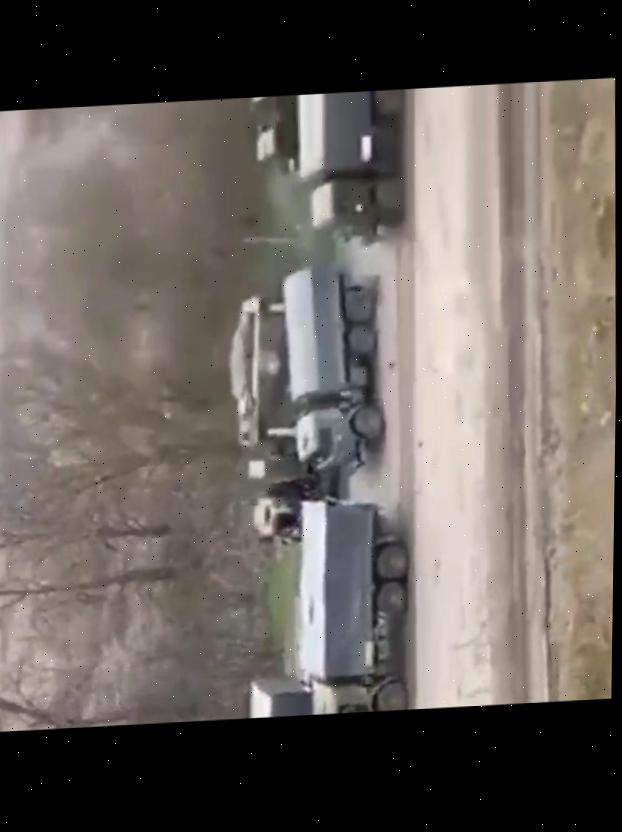truck: (224, 290, 332, 547), (295, 492, 414, 716), (279, 261, 389, 479), (295, 88, 405, 250), (232, 662, 315, 719), (245, 94, 300, 173)
